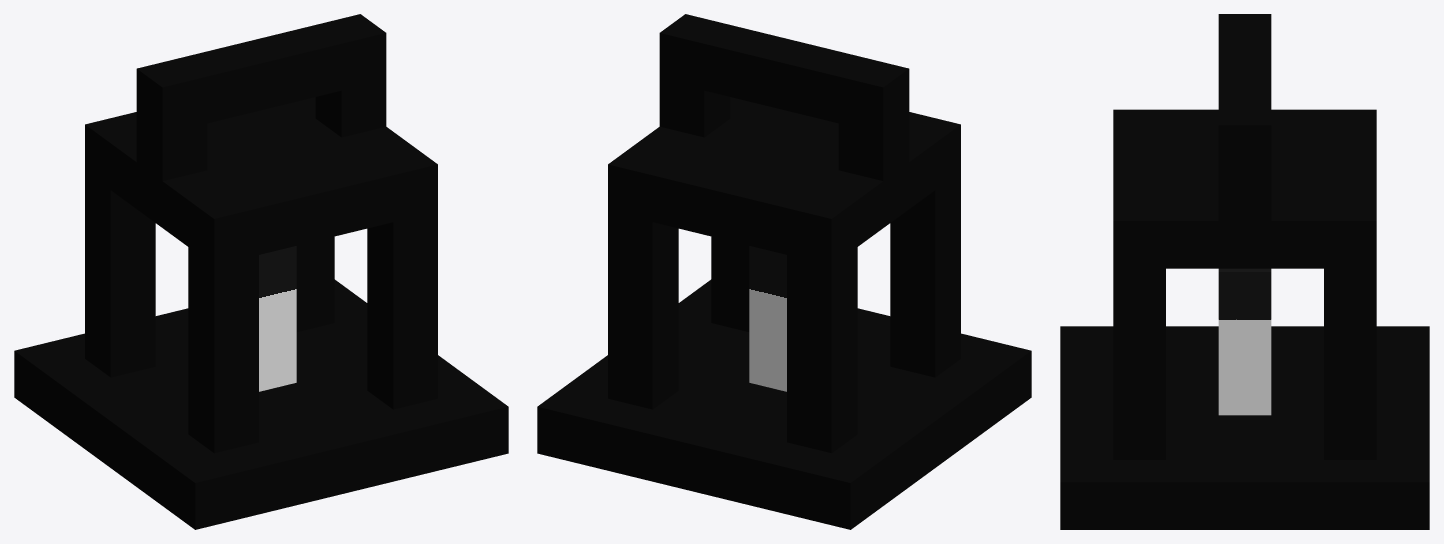
The model's file is lamp_off.dae.
3 renders of one model, left to right at view 1: azimuth 30°, elevation 25°; view 2: azimuth 150°, elevation 25°; view 3: azimuth 270°, elevation 25°, orthographic. The views are drawn at different scales.
Visible parts, largest first — view 1: lamp_off; view 2: lamp_off; view 3: lamp_off.
Boxes of the visible parts, box(x1,y1,x2,y2) form: lamp_off: box(14, 14, 508, 529); lamp_off: box(537, 14, 1031, 529); lamp_off: box(1060, 14, 1429, 529).
Size of the model in its own units: 0.7 by 0.8 by 0.7.
1 material, 1 textured.
